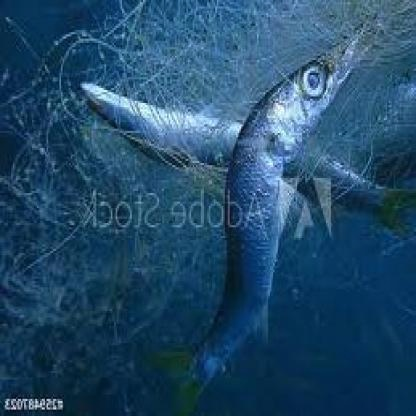net: (77, 2, 416, 189)
